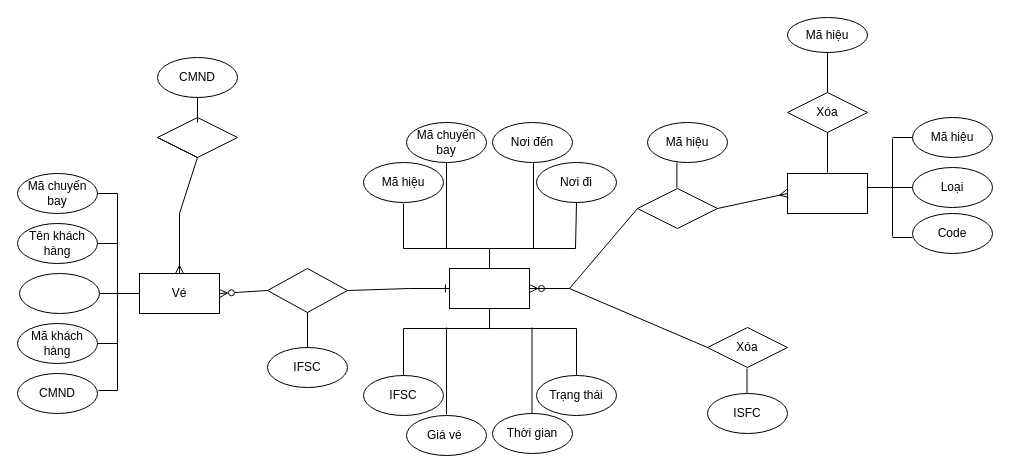
The diagram is 1010 pixels wide and 473 high, and some of its shapes have lost their labels. The shapes that lost their labels are listed below. From the top down, each one's centre as x and y in pixels, then its label:
At point (197, 137): "Hủy vé".
At point (677, 208): "Thêm".
At point (827, 193): "Máy bay".
At point (59, 293): "Giới tính".
At point (307, 290): "Đặt vé".
At point (489, 288): "Chuyến bay".
